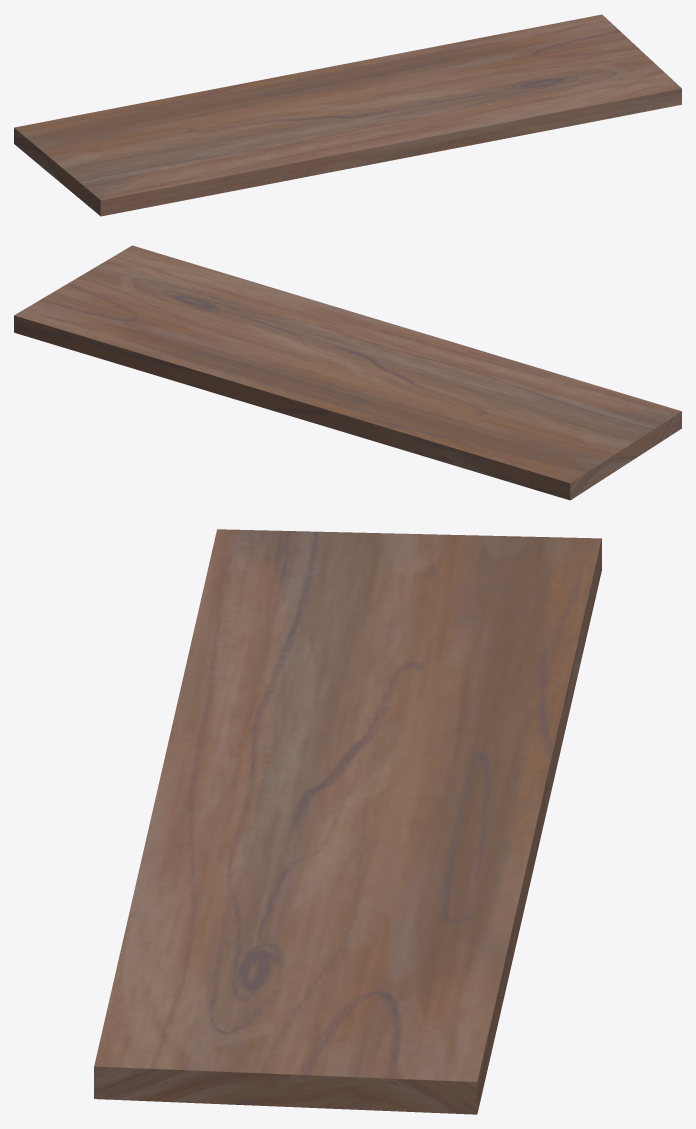
File: plank_072.fbx
3 renders of one model, top to bottom at view 1: azimuth 30°, elevation 25°; view 2: azimuth 150°, elevation 25°; view 3: azimuth 270°, elevation 25°, orthographic. The views are drawn at different scales.
Parts seen in each view (by area): view 1: plank.072; view 2: plank.072; view 3: plank.072.
Part boxes in pixels (x1,y1,x2,y2): plank.072: (14,14,681,216); plank.072: (14,245,681,500); plank.072: (94,529,601,1114).
Bounding box in the file's own units: 36.29 × 0.9957 × 14.08.
